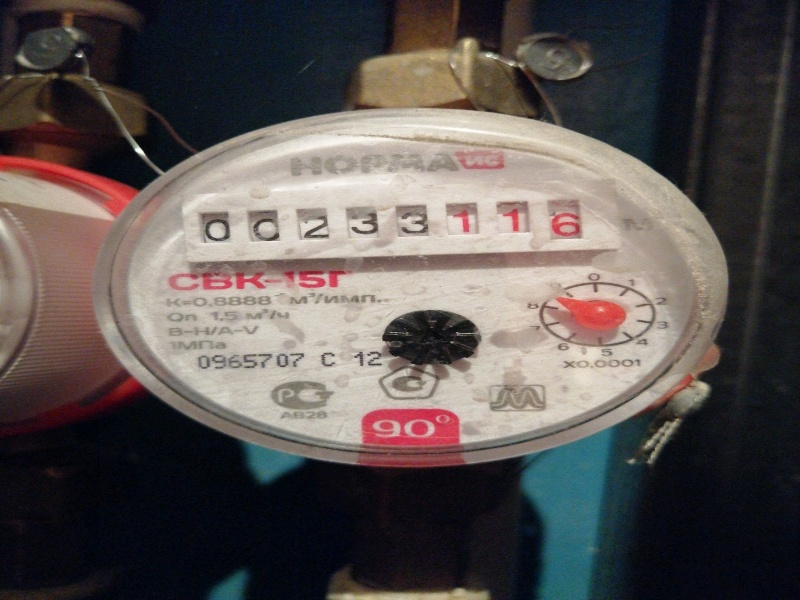meter: (190, 195, 616, 251)
